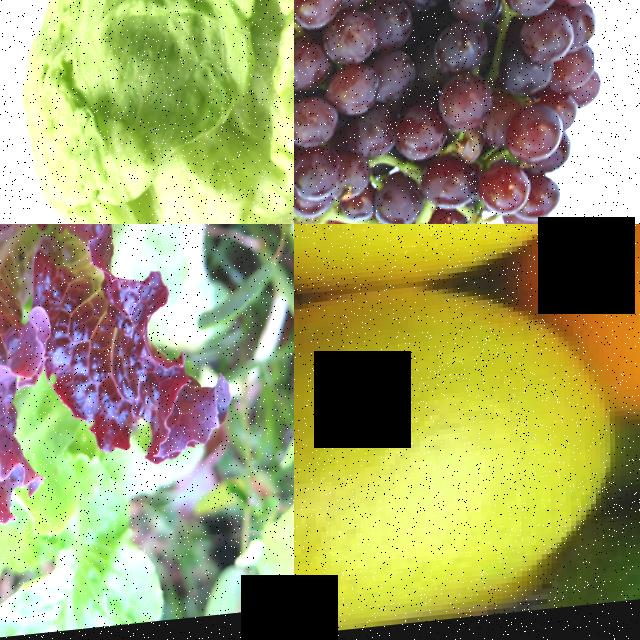grapes: (294, 0, 610, 224)
lemon: (294, 282, 605, 640), (294, 224, 640, 312)
lettuce: (23, 0, 294, 224)
